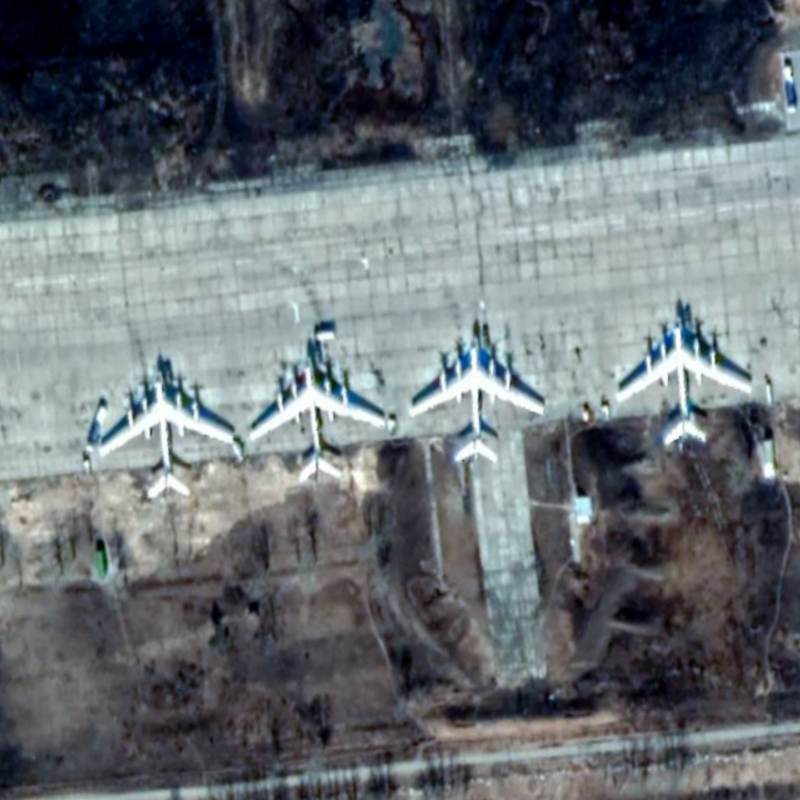A17: (614, 319, 755, 448), (408, 335, 547, 465), (246, 357, 388, 484), (95, 374, 236, 501)
